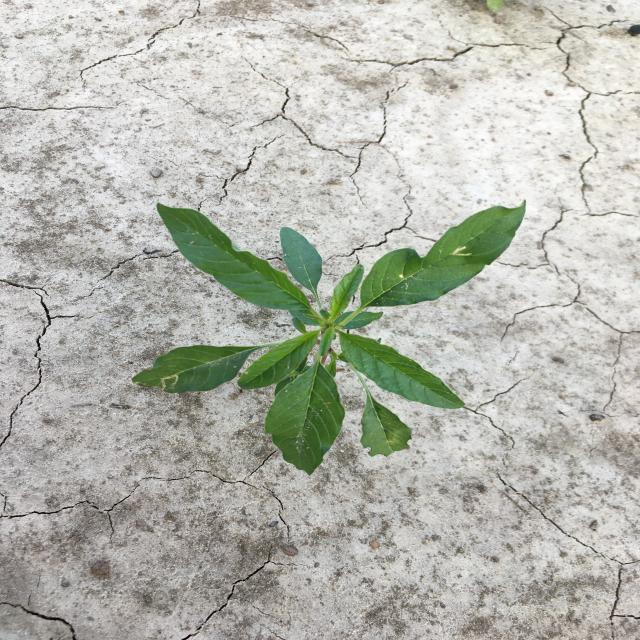Waterhemp: (128, 197, 530, 477)
